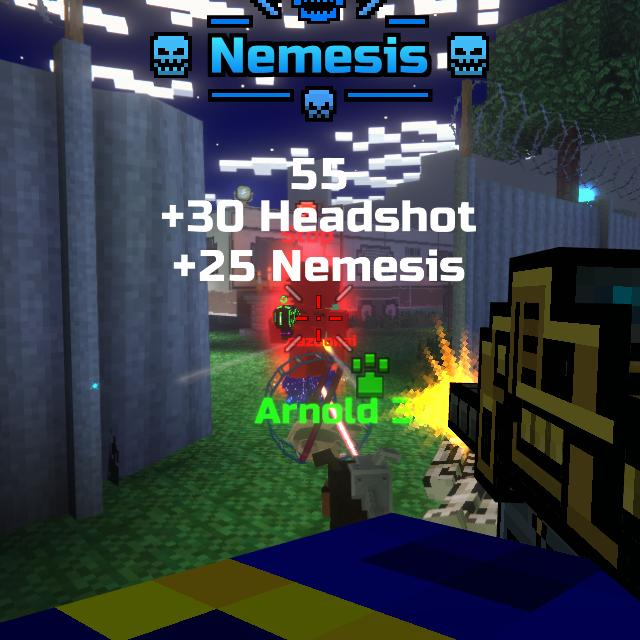Enemy: (269, 261, 350, 409)
